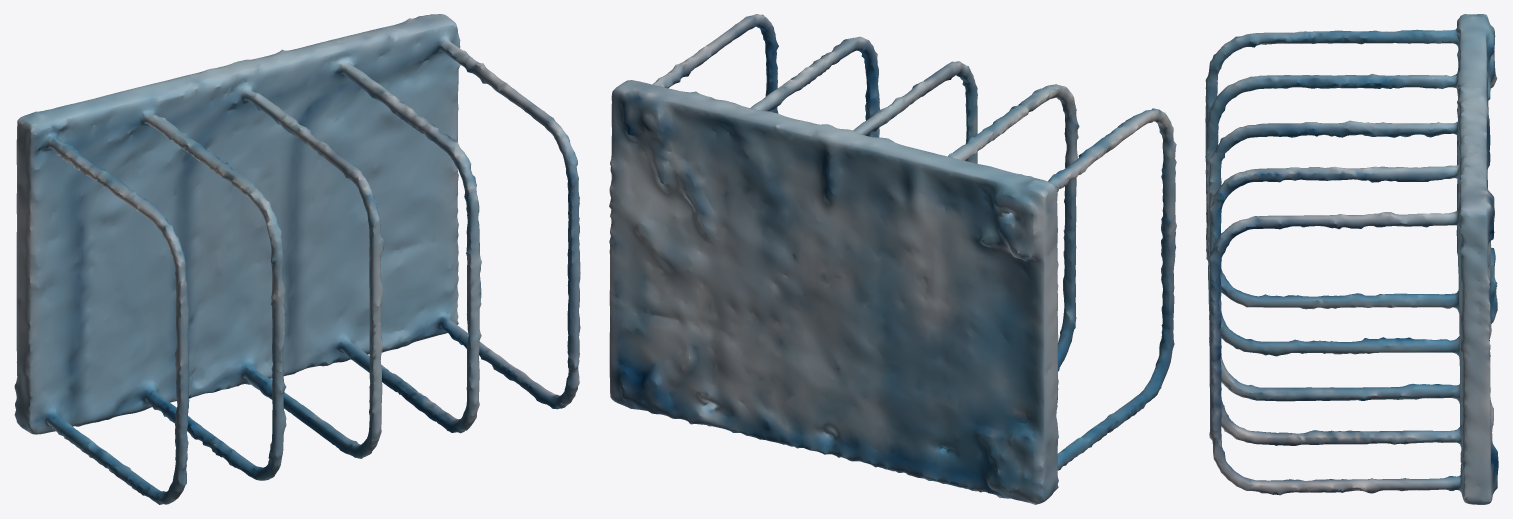
File: sorter.glb
The picture shows the model from 3 angles, left to right: view 1: azimuth 30°, elevation 25°; view 2: azimuth 150°, elevation 25°; view 3: azimuth 270°, elevation 25°; orthographic projection. The views are drawn at different scales.
Size of the model in its own units: 0.9968 by 0.6982 by 0.6124.
